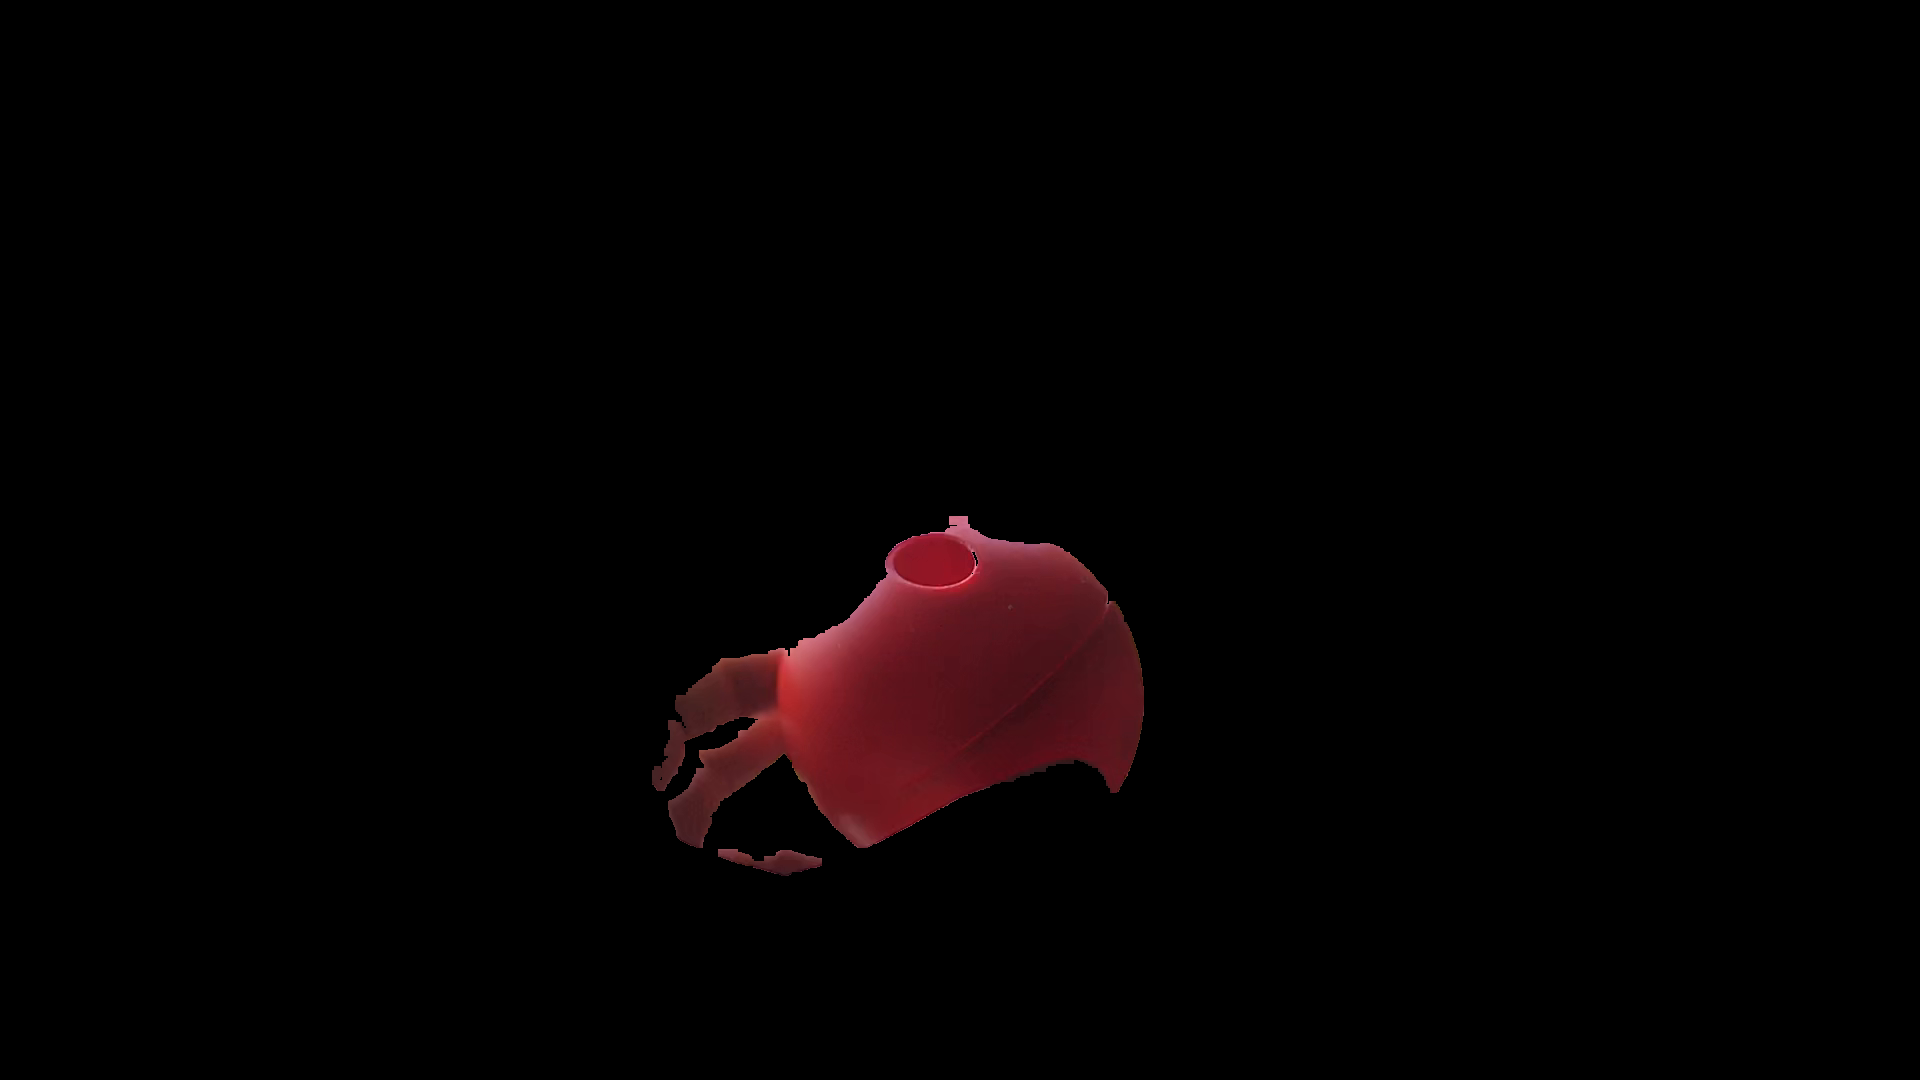Ball: (779, 512, 1146, 876)
